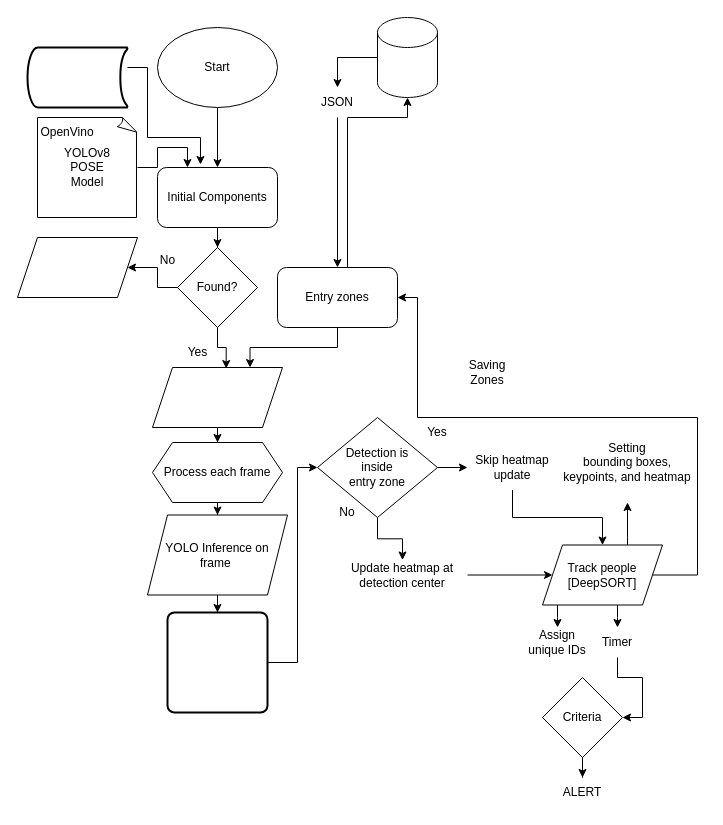
Some shapes in this 723 by 825 pixel diagram are drawn without their labels. The centre of each missing label's shape, as x and y in pixels:
"Data" goes at point (407, 57).
"DeepSORT Tracker" goes at point (77, 77).
"Download Components" goes at point (77, 267).
"Extract detections and keypoints" goes at point (217, 662).
"Load Components" goes at point (217, 397).
